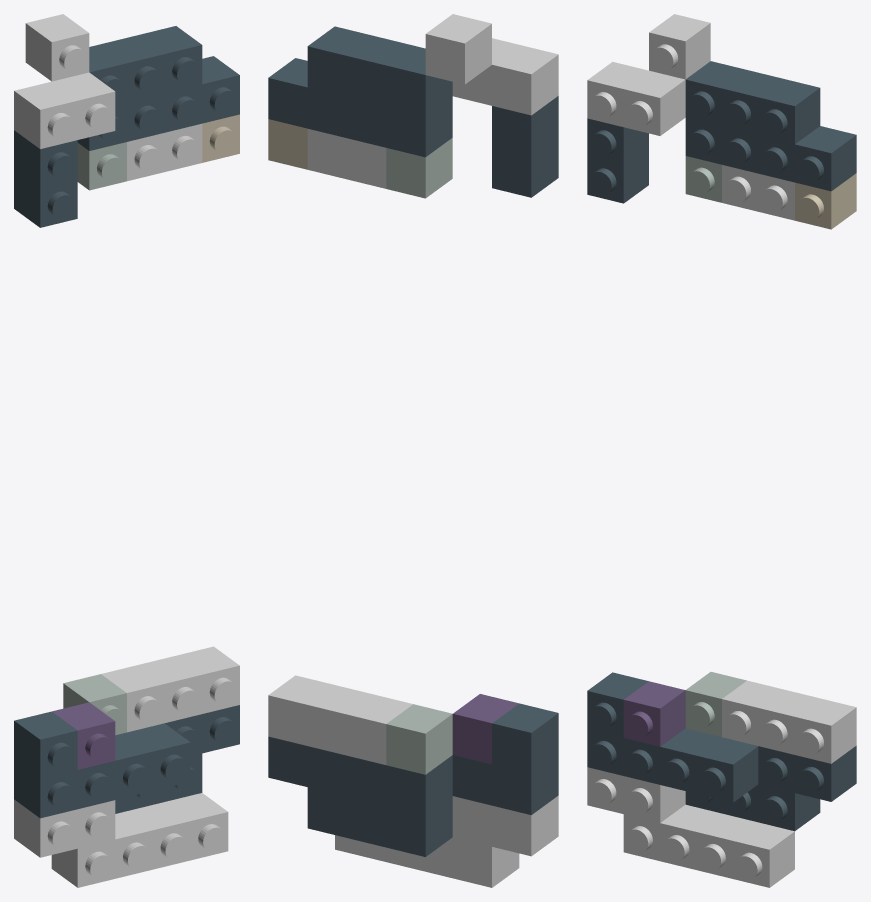
Rendered from full.glb.
3 renders of one model, left to right at view 1: azimuth 30°, elevation 25°; view 2: azimuth 150°, elevation 25°; view 3: azimuth 330°, elevation 25°, orthographic. The views are drawn at different scales.
Visible parts, largest first — view 1: world; view 2: world; view 3: world.
Boxes of the visible parts, x1,y1,x2,y2 form: world: (14,14,239,887); world: (268,14,558,887); world: (587,14,856,887).
Bounding box in the file's own units: 48 × 168 × 21.
